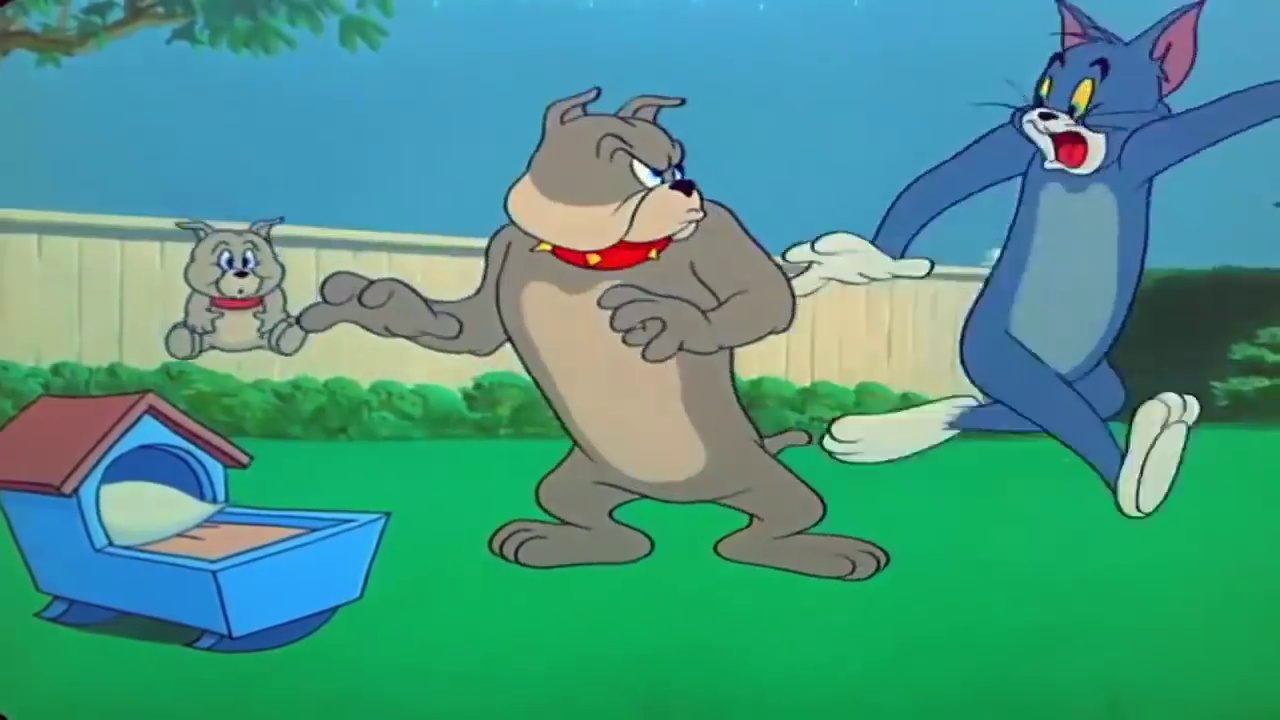spike: (502, 86, 714, 274)
tom: (1013, 1, 1210, 188)
